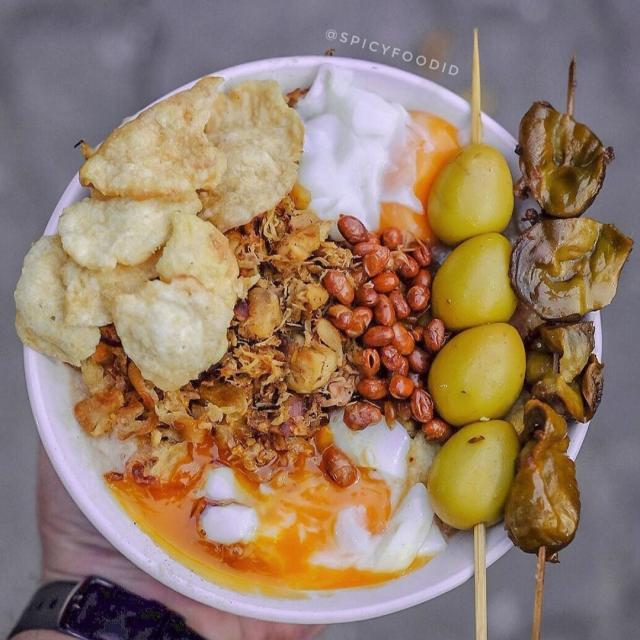bubur ayam: (11, 68, 603, 602)
mangkuk: (12, 56, 630, 635)
